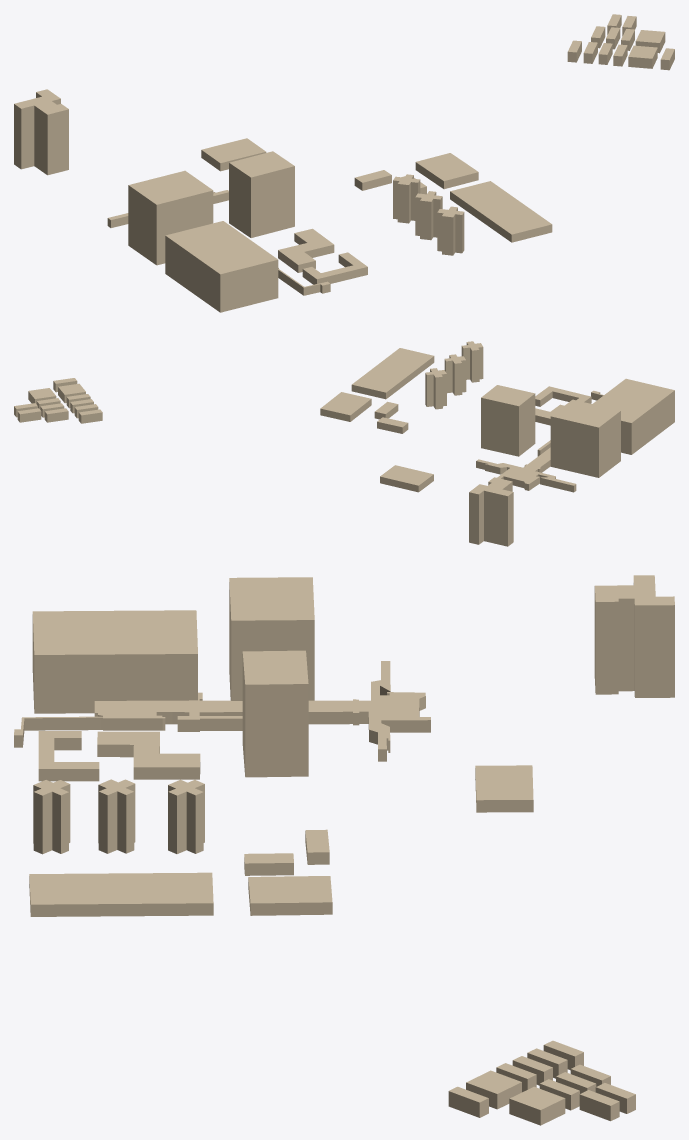
The model's file is -9_4-estimated-coarse.glb.
The picture shows the model from 3 angles, top to bottom: view 1: azimuth 30°, elevation 25°; view 2: azimuth 150°, elevation 25°; view 3: azimuth 270°, elevation 25°; orthographic projection. The views are drawn at different scales.
Size of the model in its own units: 954 by 90 by 582.
